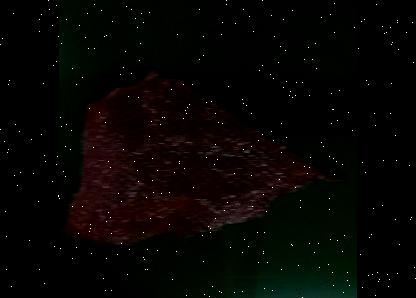Others: (60, 69, 346, 249)
